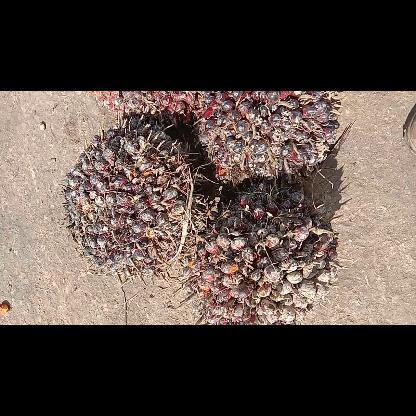Kurang masak: (184, 190, 341, 324), (62, 118, 196, 274), (195, 93, 346, 188)
